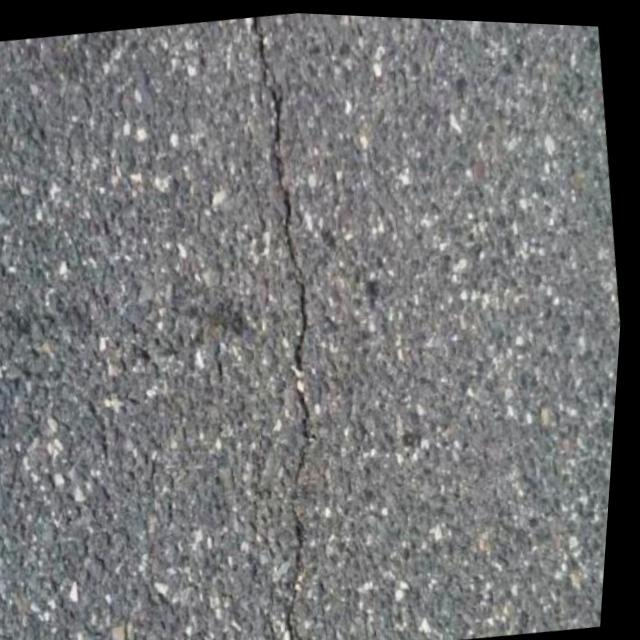Crack: (238, 14, 300, 191), (265, 497, 331, 640), (284, 381, 333, 486), (284, 275, 323, 374), (276, 187, 315, 275)
